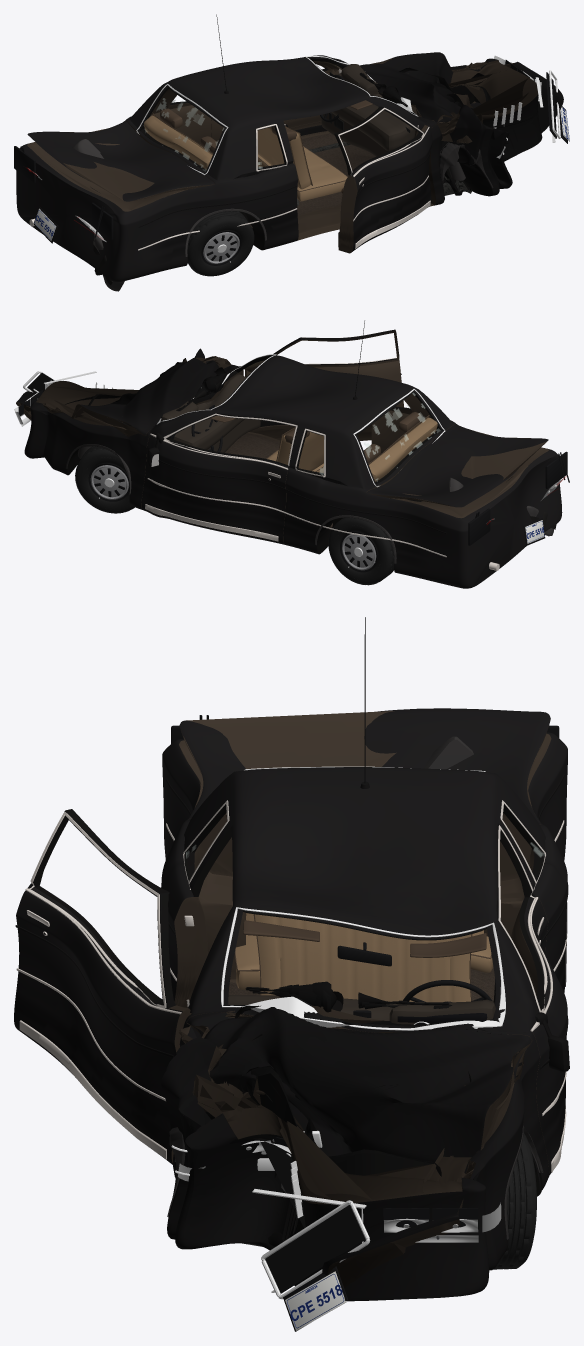
Rendered from coupe84_front_corner_R_d3.glb.
3 renders of one model, top to bottom at view 1: azimuth 30°, elevation 25°; view 2: azimuth 150°, elevation 25°; view 3: azimuth 270°, elevation 25°, orthographic. The views are drawn at different scales.
Parts seen in each view (by area): view 1: Body, Interior, Trunk, Door_FR, Hood, Wheel_RR_mesh, Ends, Trim, Glass, Trim_FR, Door_FL, Bumper_R (+1 smaller); view 2: Body, Door_FL, Trunk, Interior, Hood, Wheel_RL_mesh, Wheel_FL_mesh, Ends, Trim_FL, Door_FR, Trim, Glass (+1 smaller); view 3: Body, Hood, Door_FR, Trunk, Interior, Ends, Door_FL, Trim, Trim_FR, Glass, Wheel_FL_mesh, Trim_FL (+1 smaller).
Boxes of the visible parts, x1,y1,x2,y2 form: Body: [16, 55, 542, 281]; Interior: [144, 64, 415, 201]; Trunk: [27, 121, 214, 201]; Door_FR: [334, 106, 432, 253]; Hood: [359, 52, 563, 143]; Wheel_RR_mesh: [187, 211, 254, 276]; Ends: [14, 55, 569, 243]; Trim: [138, 14, 493, 256]; Glass: [136, 55, 418, 175]; Trim_FR: [338, 107, 430, 248]; Door_FL: [211, 62, 339, 141]; Bumper_R: [72, 139, 124, 291]; Body: [24, 348, 562, 588]; Door_FL: [141, 413, 298, 544]; Trunk: [367, 424, 548, 507]; Interior: [161, 374, 437, 481]; Hood: [16, 358, 238, 435]; Wheel_RL_mesh: [328, 517, 394, 585]; Wheel_FL_mesh: [75, 446, 134, 513]; Ends: [14, 371, 569, 545]; Trim_FL: [145, 413, 297, 541]; Door_FR: [245, 329, 404, 440]; Trim: [65, 320, 446, 563]; Glass: [156, 354, 445, 487]; Body: [161, 732, 567, 1301]; Hood: [187, 1005, 531, 1288]; Door_FR: [14, 809, 191, 1164]; Trunk: [179, 708, 550, 824]; Interior: [228, 913, 495, 1024]; Ends: [171, 715, 559, 1331]; Door_FL: [496, 824, 567, 1177]; Trim: [161, 617, 568, 1239]; Trim_FR: [15, 812, 189, 1159]; Glass: [186, 766, 544, 1030]; Wheel_FL_mesh: [493, 1132, 536, 1269]; Trim_FL: [498, 825, 569, 1172].
Bounding box in the file's own units: 5.25 × 2.15 × 2.46.
33 materials, 5 textured.
